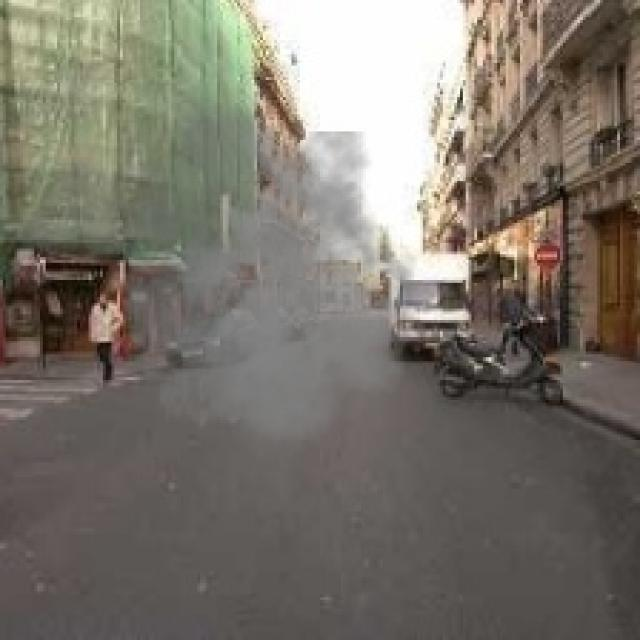Smoke: (17, 86, 429, 468)
